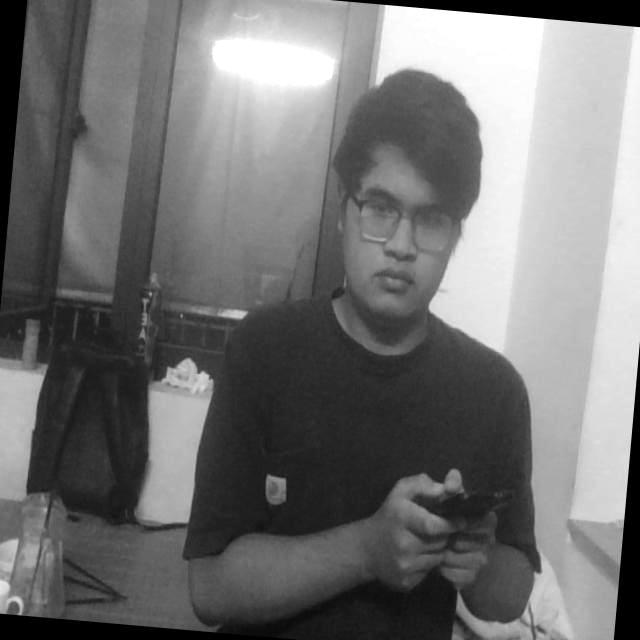phone: (402, 458, 514, 549)
